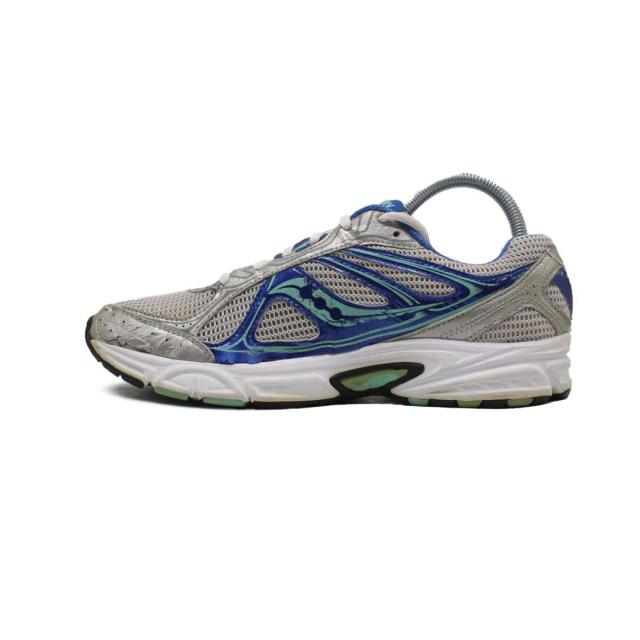heel: (499, 231, 572, 336)
midsole: (81, 316, 574, 409)
uppersole: (90, 200, 512, 362)
